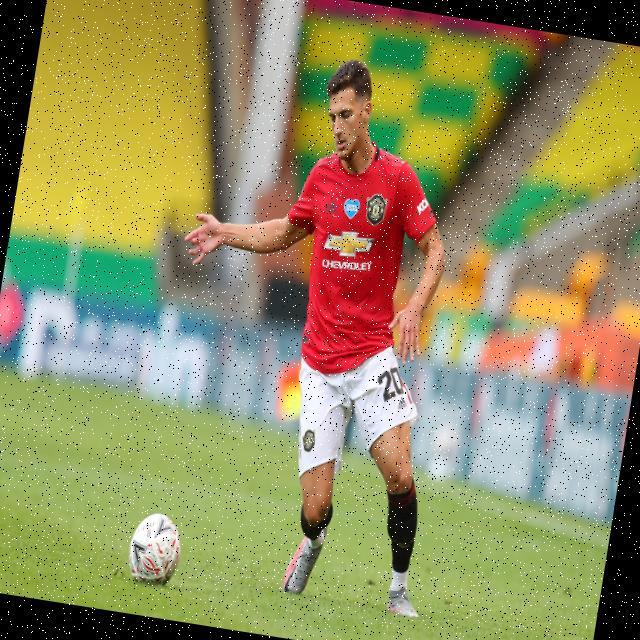Adidas: (323, 195, 340, 221)
Chevrolet: (321, 228, 378, 280)
